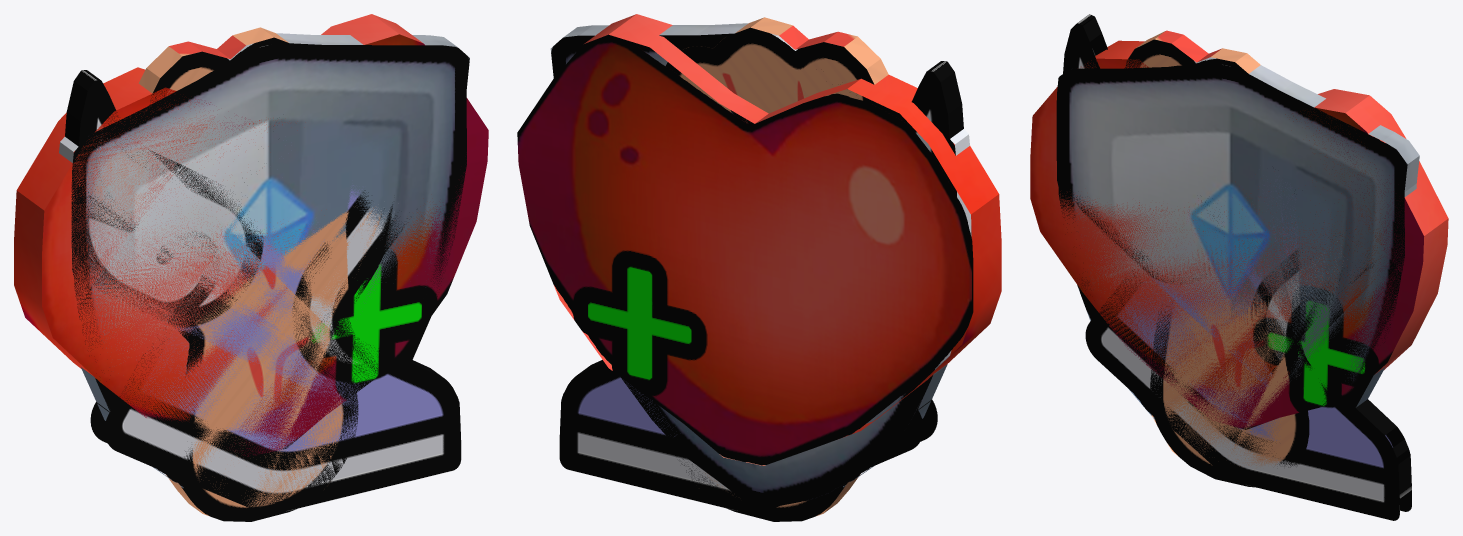
File: Pickups.fbx
The picture shows the model from 3 angles, left to right: view 1: azimuth 30°, elevation 25°; view 2: azimuth 150°, elevation 25°; view 3: azimuth 330°, elevation 25°; orthographic projection. The views are drawn at different scales.
Visible parts, largest first — view 1: Shield Icon, Health Icon, Speed Boost Icon, Strength Icon; view 2: Health Icon, Speed Boost Icon, Shield Icon, Strength Icon; view 3: Shield Icon, Health Icon, Speed Boost Icon, Strength Icon.
Boxes of the visible parts, x1=… form: Shield Icon: x1=59, y1=33, x2=469, y2=487; Health Icon: x1=14, y1=14, x2=488, y2=456; Speed Boost Icon: x1=65, y1=70, x2=461, y2=512; Strength Icon: x1=138, y1=27, x2=392, y2=521; Health Icon: x1=517, y1=14, x2=1001, y2=465; Speed Boost Icon: x1=559, y1=61, x2=963, y2=511; Shield Icon: x1=550, y1=23, x2=971, y2=508; Strength Icon: x1=665, y1=17, x2=888, y2=521; Shield Icon: x1=1056, y1=57, x2=1419, y2=419; Health Icon: x1=1030, y1=40, x2=1448, y2=429; Speed Boost Icon: x1=1063, y1=14, x2=1411, y2=520; Strength Icon: x1=1125, y1=30, x2=1342, y2=487.
Size of the model in its own units: 93.2 by 96.12 by 10.
4 materials, 4 textured.
